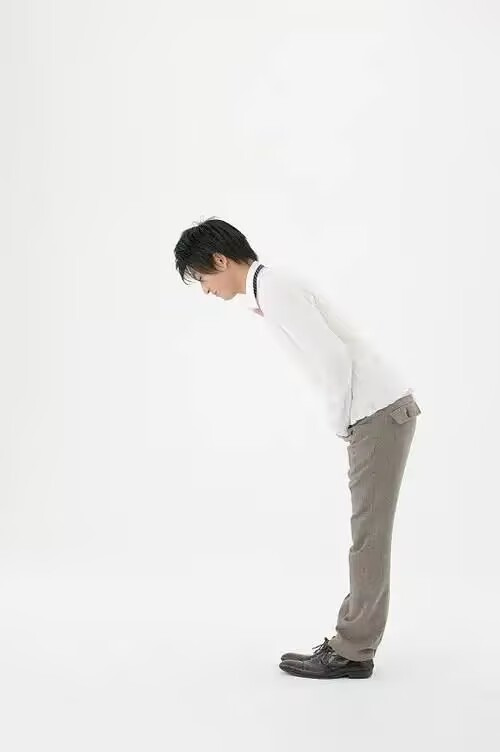bending: (152, 202, 425, 689)
